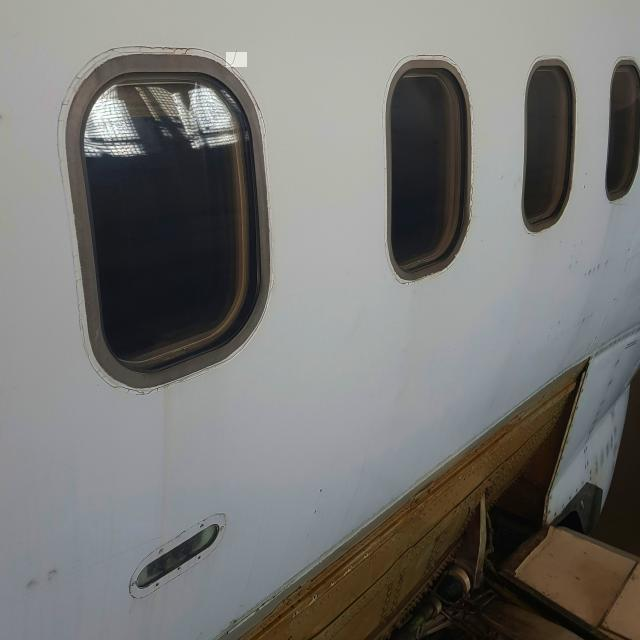crack: (227, 53, 248, 68)
